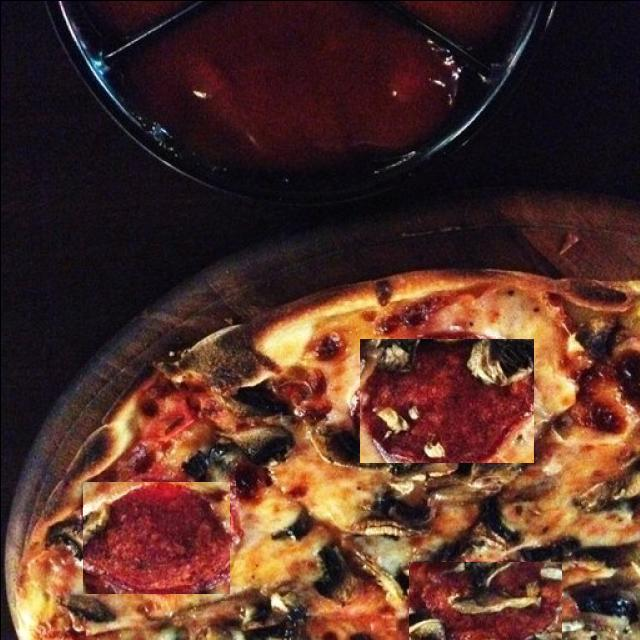pepperoni: (358, 338, 532, 462), (82, 481, 229, 593), (408, 561, 561, 640)
pizza: (14, 267, 640, 640)
